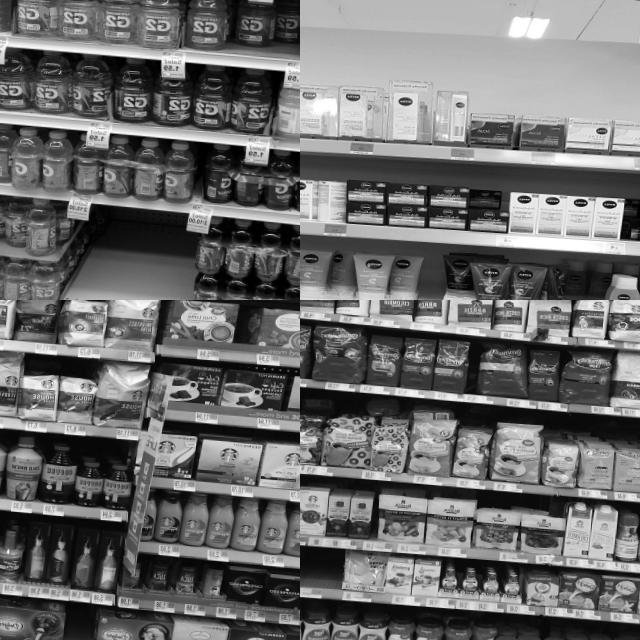100% O.O.S: (62, 605, 89, 640)
100- O.O.S: (84, 206, 197, 300), (300, 546, 343, 599), (419, 249, 441, 300)
